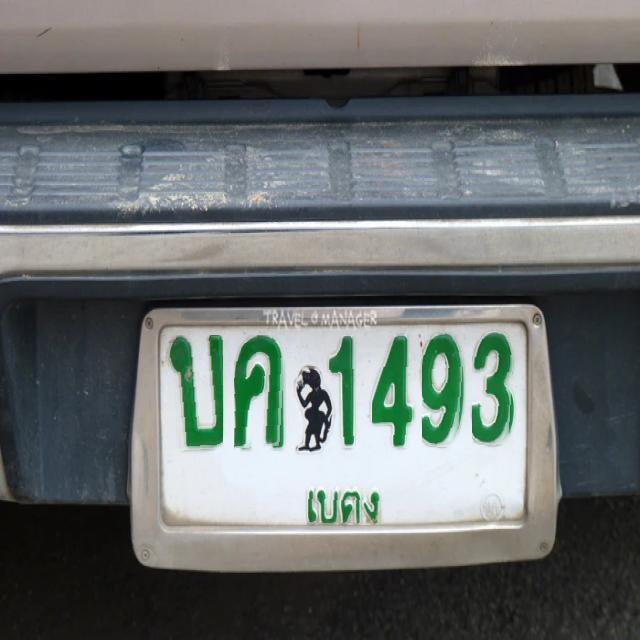1: (327, 333, 360, 452)
3: (469, 330, 514, 449)
4: (366, 331, 414, 449)
9: (418, 331, 466, 450)
A04: (232, 334, 290, 449)
A26: (165, 334, 228, 450)
BTG: (299, 482, 384, 534)
